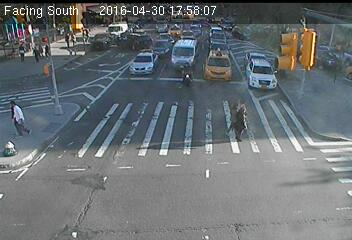neg: (60, 131, 85, 164), (66, 63, 90, 95), (113, 57, 137, 88), (147, 19, 167, 46), (311, 180, 331, 206), (158, 116, 177, 142), (99, 130, 118, 156), (257, 9, 276, 34), (317, 66, 336, 90), (280, 161, 298, 185), (294, 13, 311, 36), (21, 149, 38, 172), (244, 189, 260, 211), (257, 120, 273, 141), (162, 137, 178, 158), (124, 8, 140, 29), (32, 65, 48, 85), (214, 8, 229, 29), (124, 186, 139, 205), (201, 34, 215, 51), (315, 139, 328, 156), (146, 90, 158, 107), (233, 65, 245, 81), (165, 14, 176, 30), (282, 80, 293, 95), (162, 36, 173, 51), (109, 32, 120, 47), (283, 51, 293, 65), (204, 189, 212, 199), (285, 122, 290, 129), (312, 108, 315, 112)
pos: (218, 98, 245, 134), (227, 106, 253, 142), (10, 40, 27, 63), (59, 27, 74, 47), (32, 40, 45, 58), (28, 44, 41, 61), (39, 40, 51, 57)
